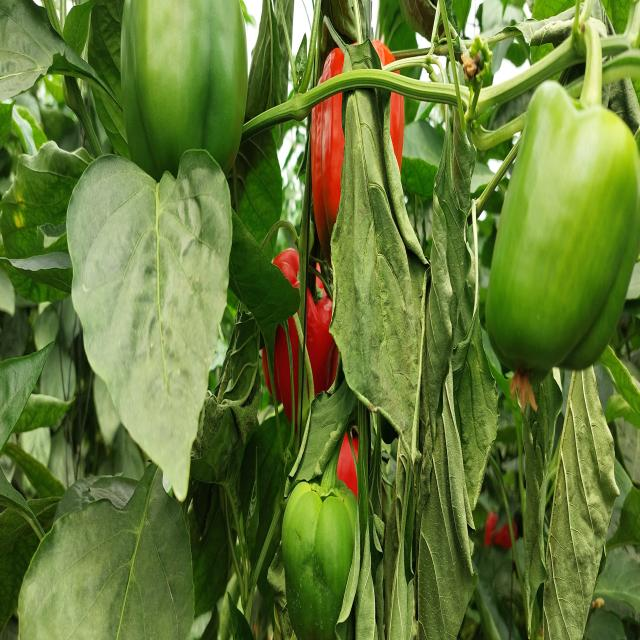Green--Not-ready-to-harvest: (495, 72, 633, 384), (122, 0, 250, 178), (280, 487, 364, 640)
Red-Ready-to-Harvest: (312, 50, 406, 302), (260, 249, 340, 425), (318, 430, 374, 493)
